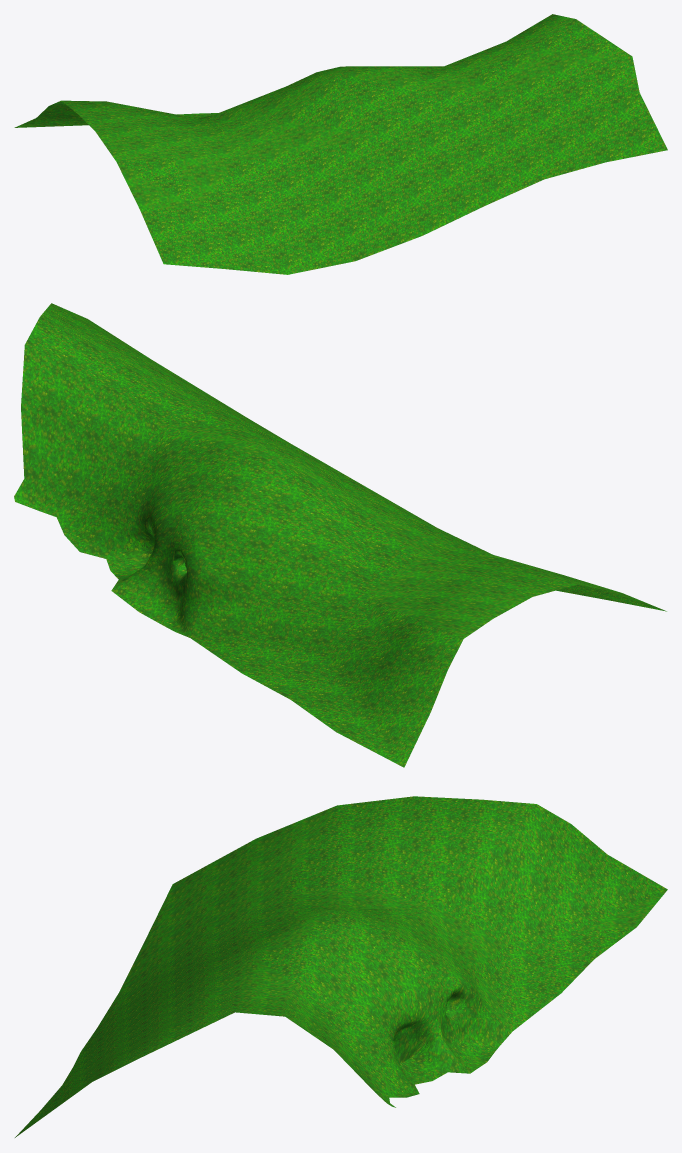
The model's file is HTOWN01_PS11.fbx.
3 renders of one model, top to bottom at view 1: azimuth 30°, elevation 25°; view 2: azimuth 150°, elevation 25°; view 3: azimuth 270°, elevation 25°, orthographic. The views are drawn at different scales.
Parts seen in each view (by area): view 1: HTOWN01_PS11; view 2: HTOWN01_PS11; view 3: HTOWN01_PS11.
Part boxes in pixels (x1,y1,x2,y2): HTOWN01_PS11: (14,14,667,274); HTOWN01_PS11: (14,303,666,767); HTOWN01_PS11: (15,796,667,1137).
Bounding box in the file's own units: 359199 × 109779 × 305744.
1 material, 1 textured.
